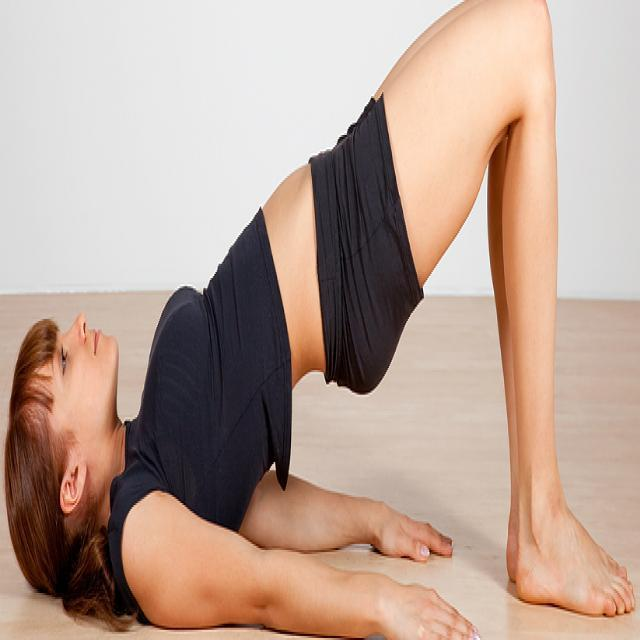yoga-pose bridge: (11, 11, 637, 635)
